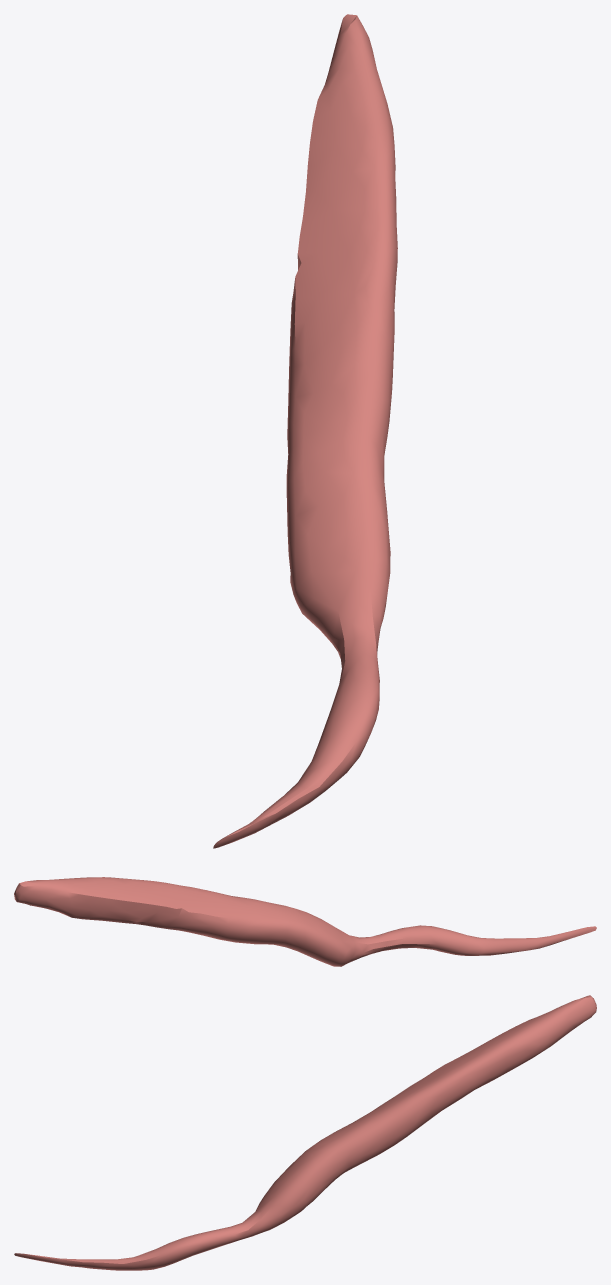
File: fma37741_mm1749m.glb
3 renders of one model, top to bottom at view 1: azimuth 30°, elevation 25°; view 2: azimuth 150°, elevation 25°; view 3: azimuth 330°, elevation 25°, orthographic. The views are drawn at different scales.
Parts seen in each view (by area): view 1: FMA37741_MM1749M; view 2: FMA37741_MM1749M; view 3: FMA37741_MM1749M.
Boxes of the visible parts, x1,y1,x2,y2 form: FMA37741_MM1749M: (213,14,397,848); FMA37741_MM1749M: (14,877,596,966); FMA37741_MM1749M: (14,995,596,1270).
Bounding box in the file's own units: 0.0333 × 0.0167 × 0.0449.
